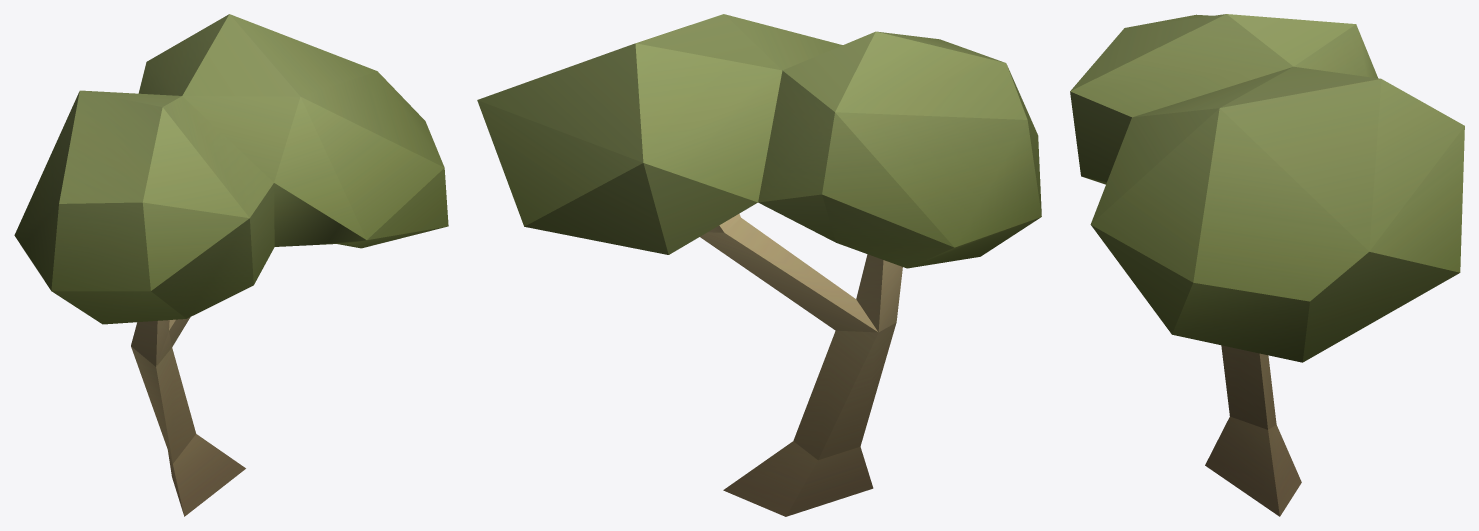
The model's file is tree04_mdl.FBX.
3 views of the same model, side by side, from view 1: azimuth 30°, elevation 25°; view 2: azimuth 150°, elevation 25°; view 3: azimuth 270°, elevation 25° (orthographic). The views are drawn at different scales.
Visible parts, largest first — view 1: Tree4; view 2: Tree4; view 3: Tree4.
Part boxes in pixels (x1,y1,x2,y2): Tree4: [14, 14, 448, 516]; Tree4: [477, 14, 1041, 516]; Tree4: [1070, 14, 1464, 516].
Bounding box in the file's own units: 2.79 × 2.57 × 2.03.
1 material, 1 textured.
